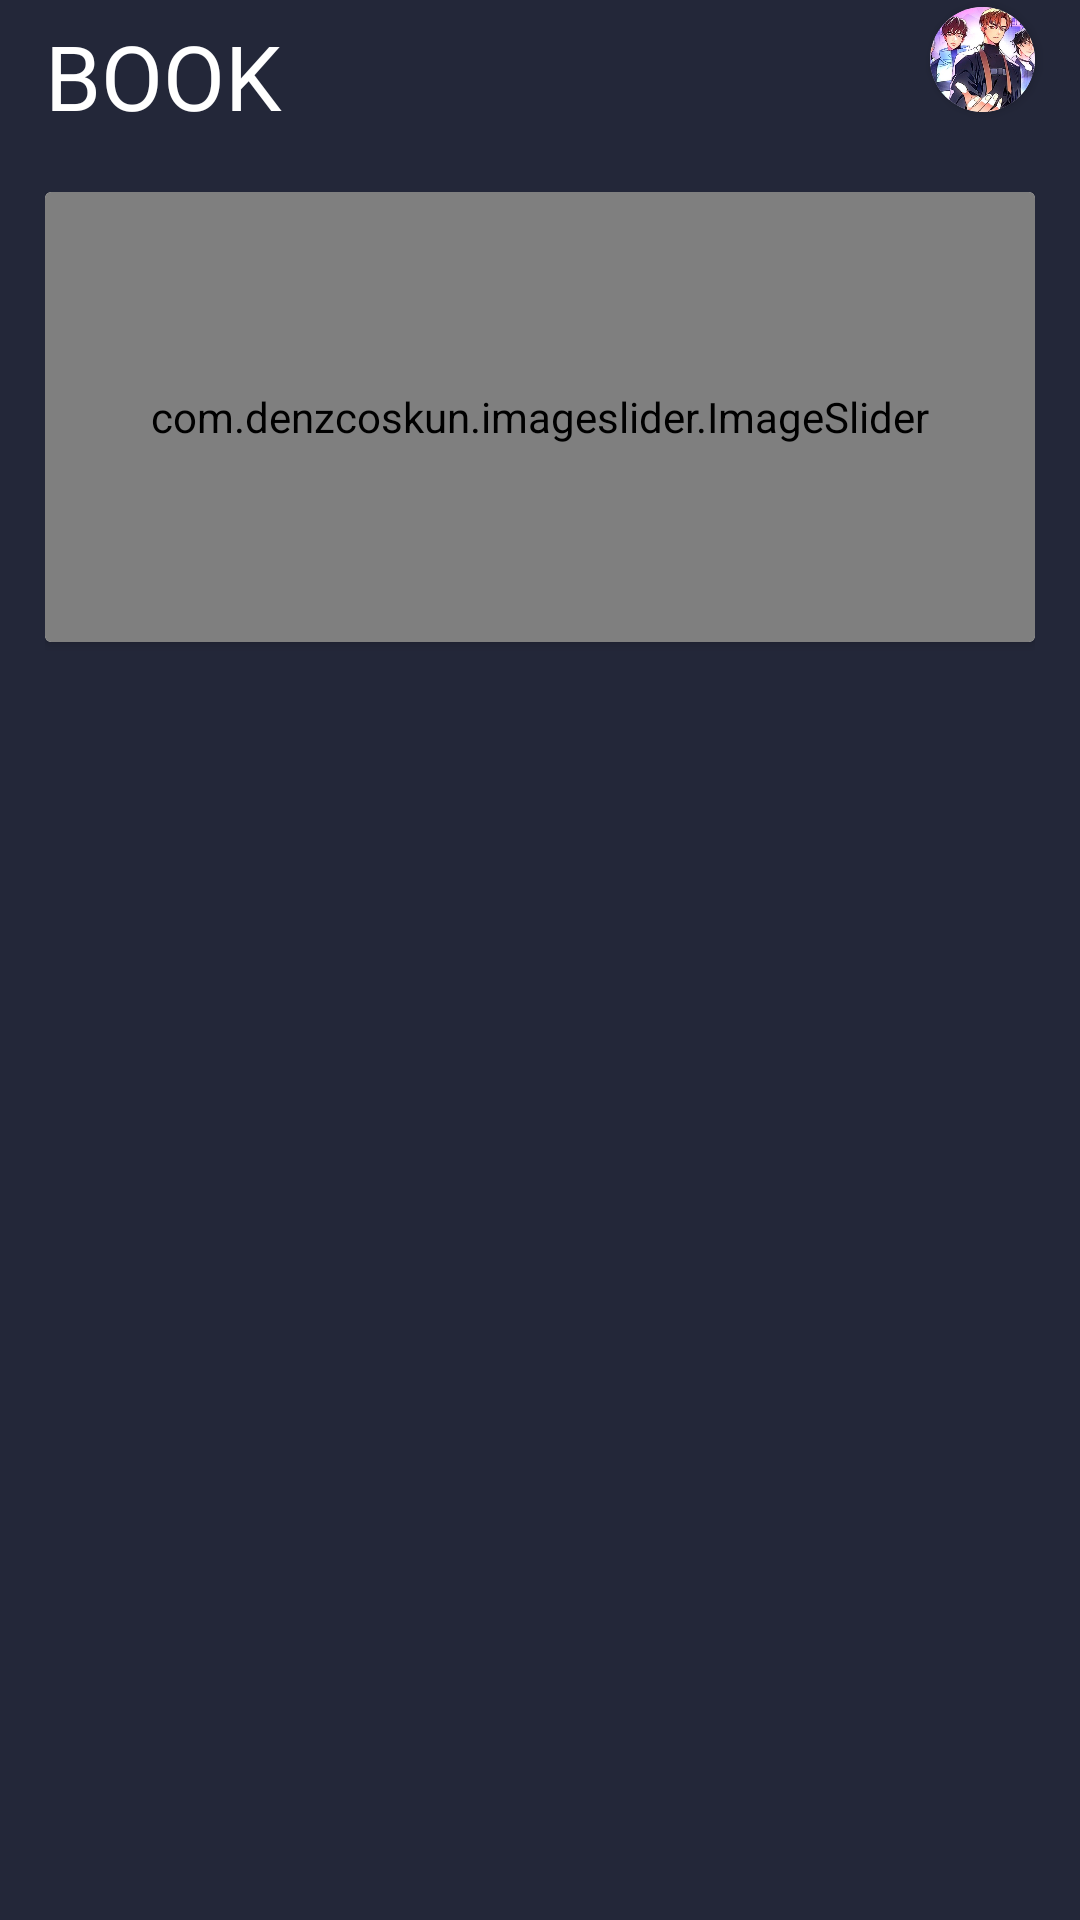

Icons on this 1080px x 1920px Android screen, each with its box as (x1, y1, x2, y2):
anhbia: (930, 7, 1035, 112)
